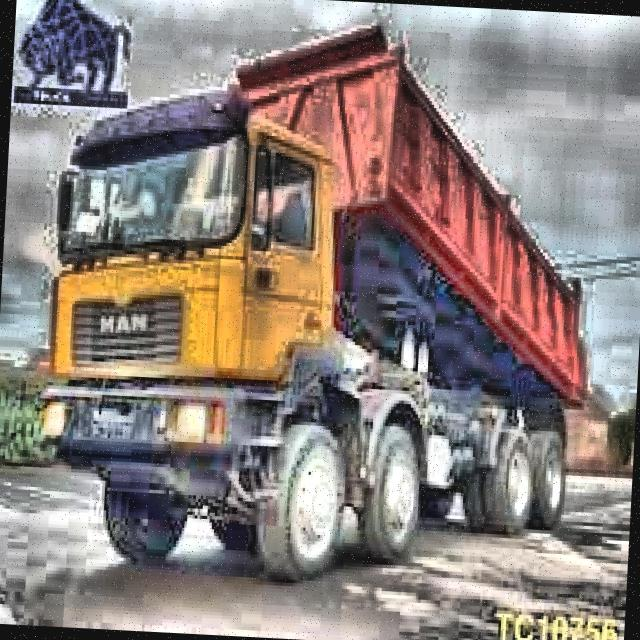dump_truck: (41, 1, 597, 611)
